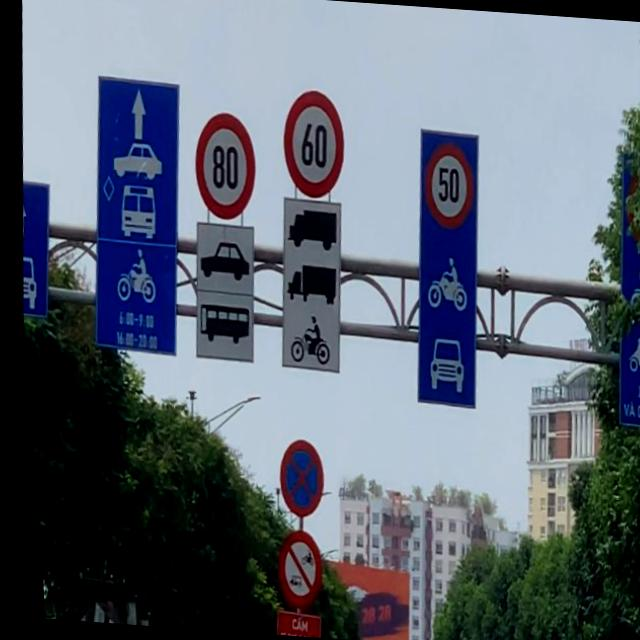Cam dung xe va do xe: (266, 436, 323, 522)
Toc do toi da cho phep: (273, 85, 352, 204), (183, 108, 262, 219), (414, 135, 479, 236)
